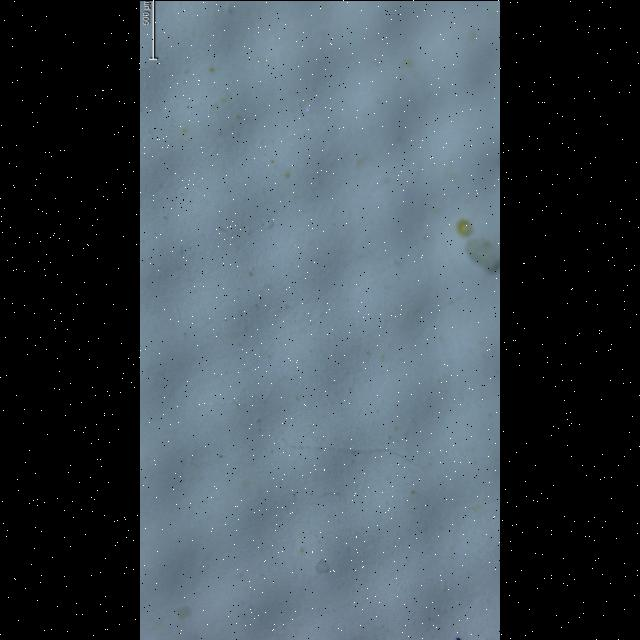Fibre: (288, 443, 430, 467)
Fragment: (465, 237, 500, 270), (315, 558, 329, 573)
